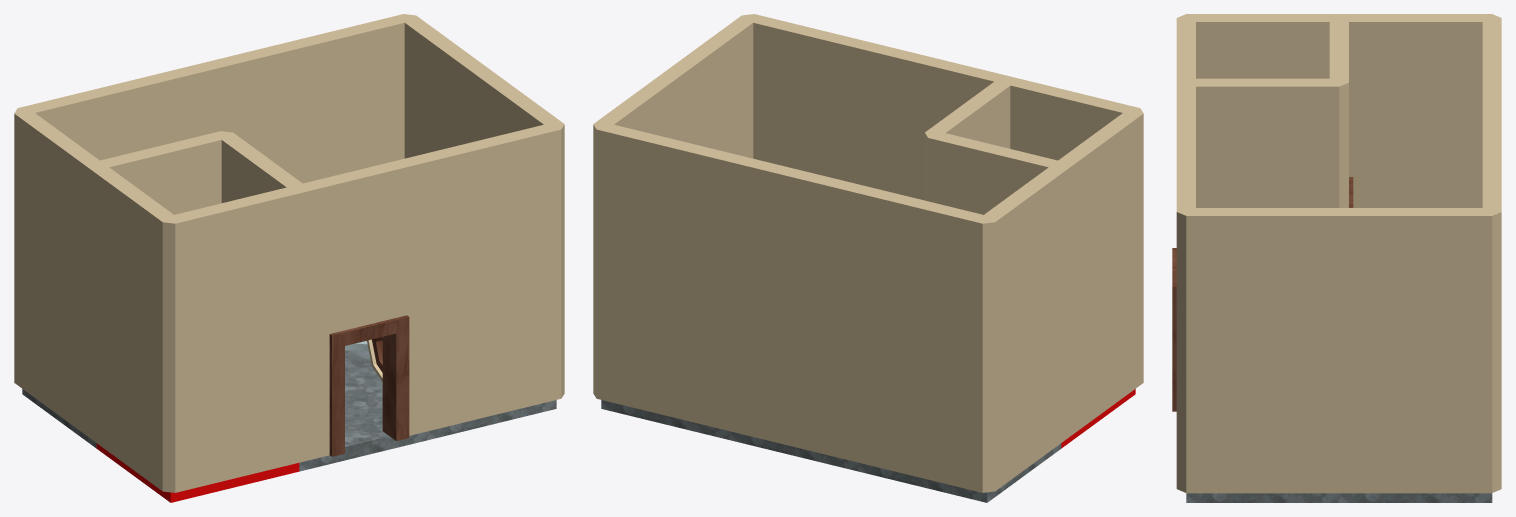
File: Level_2_0-Elevator.fbx
3 renders of one model, left to right at view 1: azimuth 30°, elevation 25°; view 2: azimuth 150°, elevation 25°; view 3: azimuth 270°, elevation 25°, orthographic. The views are drawn at different scales.
Parts seen in each view (by area): view 1: mergedBlocks; view 2: mergedBlocks; view 3: mergedBlocks.
Part boxes in pixels (bbox=[...]): mergedBlocks: bbox=[14, 14, 564, 502]; mergedBlocks: bbox=[593, 14, 1143, 502]; mergedBlocks: bbox=[1172, 14, 1501, 502].
Size of the model in its own units: 62.5 by 42 by 43.1.
10 materials, 3 textured.
